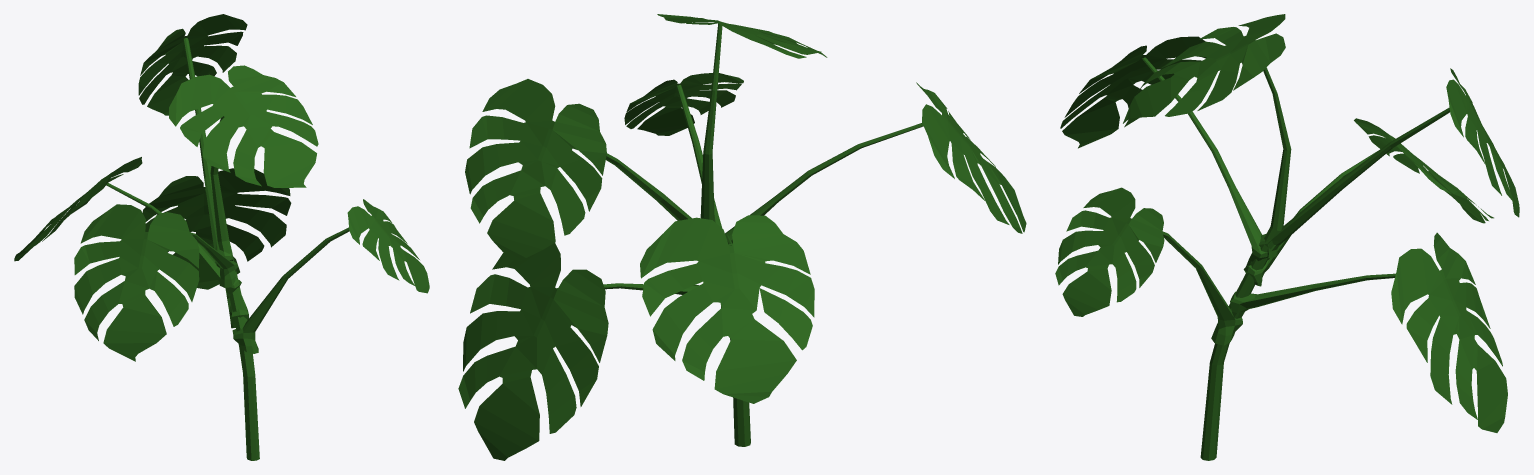
The model's file is SplitLeaf_Philodendron_04.fbx.
The picture shows the model from 3 angles, left to right: view 1: azimuth 30°, elevation 25°; view 2: azimuth 150°, elevation 25°; view 3: azimuth 270°, elevation 25°; orthographic projection. The views are drawn at different scales.
Parts seen in each view (by area): view 1: SplitLeaf_Philodendron_04; view 2: SplitLeaf_Philodendron_04; view 3: SplitLeaf_Philodendron_04.
Part boxes in pixels (x1,y1,x2,y2): SplitLeaf_Philodendron_04: (14,14,429,460); SplitLeaf_Philodendron_04: (458,14,1026,460); SplitLeaf_Philodendron_04: (1055,14,1519,460).
Bounding box in the file's own units: 83.89 × 90.61 × 89.26.
